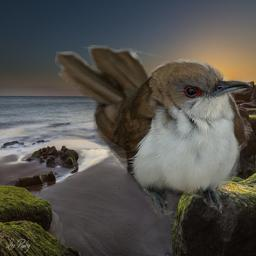Cuckoo: (55, 45, 253, 222)
